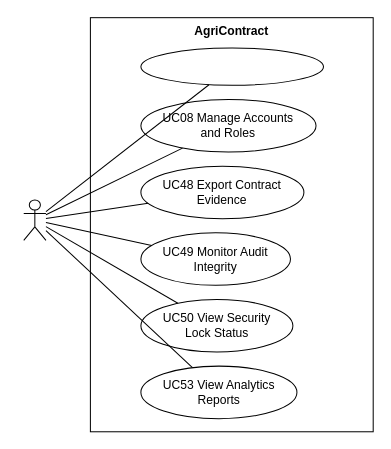
Image size: 391x449. Some labels were removed from this diagram. The centre of each missing label's shape, as x and y in pixels:
"Admin" goes at (x=34, y=219).
"UC02 Log In and Log Out" goes at (x=232, y=66).
